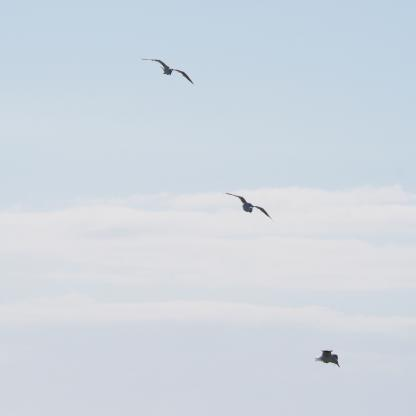bird: (142, 58, 194, 86), (223, 192, 273, 221), (315, 349, 340, 369)
